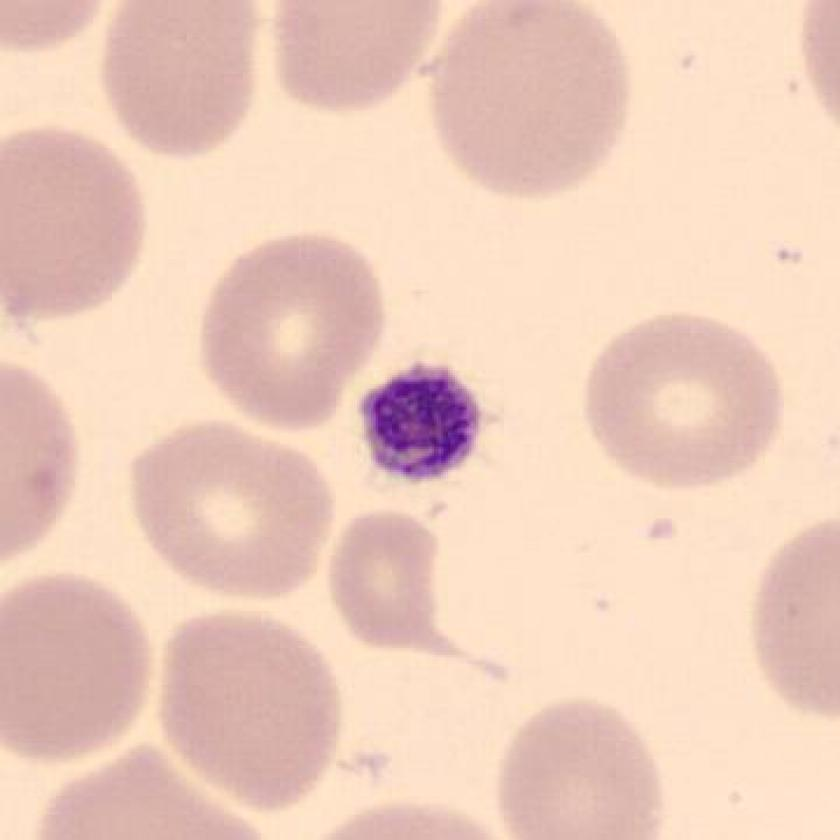platelets: (353, 350, 505, 494)
